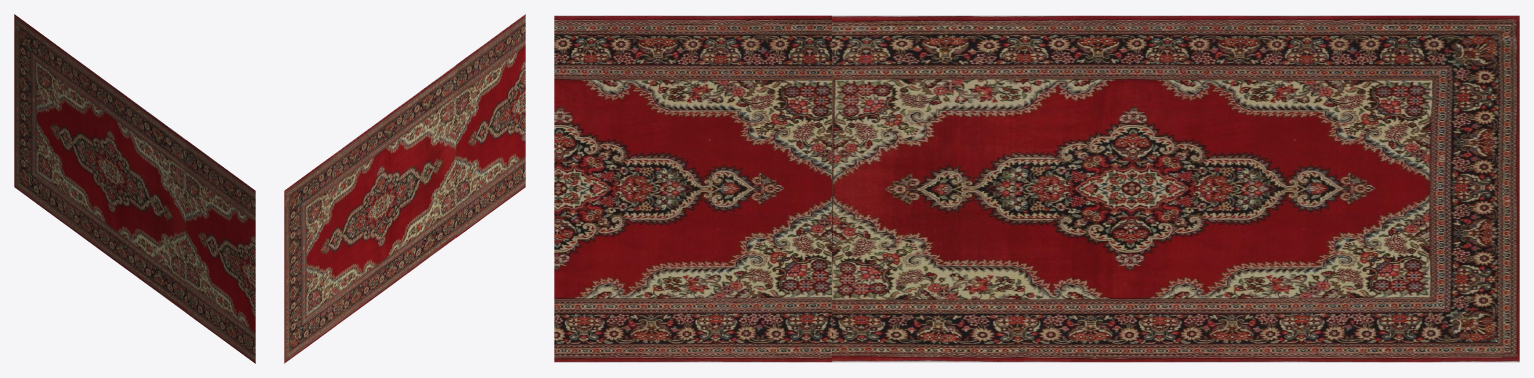
File: Carpet.fbx
3 renders of one model, left to right at view 1: azimuth 30°, elevation 25°; view 2: azimuth 150°, elevation 25°; view 3: azimuth 270°, elevation 25°, orthographic. The views are drawn at different scales.
Visible parts, largest first — view 1: Plane.004; view 2: Plane.004; view 3: Plane.004.
Part boxes in pixels (bbox=[...]): Plane.004: bbox=[14, 14, 255, 363]; Plane.004: bbox=[284, 14, 525, 363]; Plane.004: bbox=[554, 15, 1519, 362].
Bounding box in the file's own units: 9.1e-05 × 200 × 505.
1 material, 1 textured.
